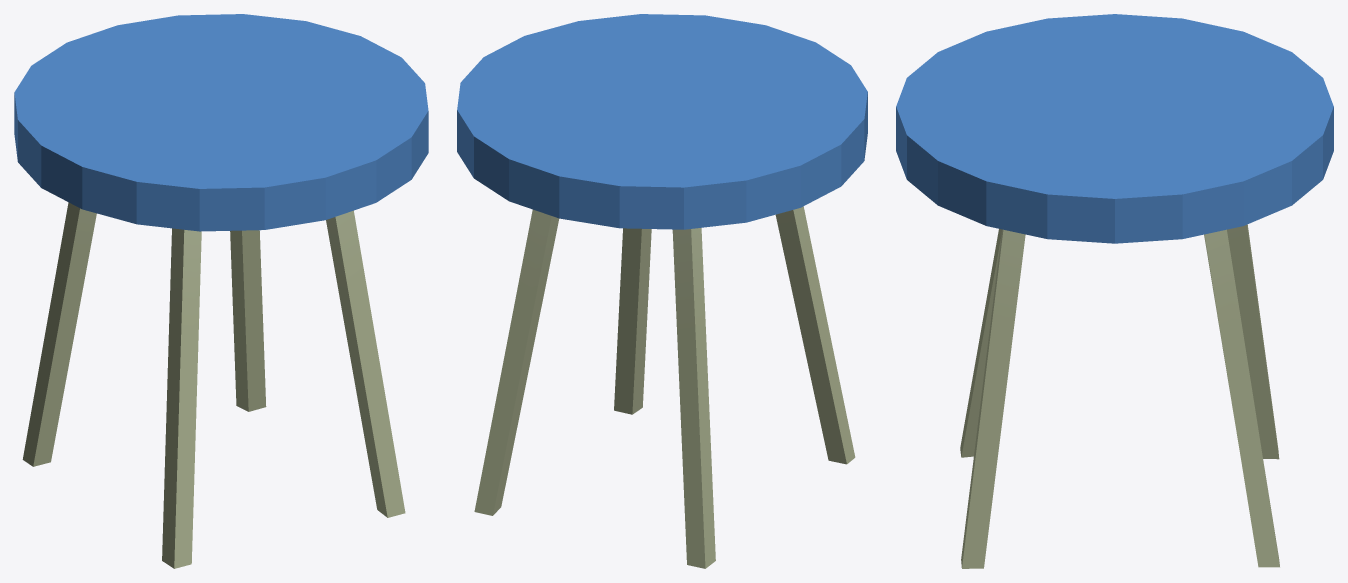
The model's file is Patio_Table.fbx.
The picture shows the model from 3 angles, left to right: view 1: azimuth 30°, elevation 25°; view 2: azimuth 150°, elevation 25°; view 3: azimuth 270°, elevation 25°; orthographic projection. The views are drawn at different scales.
Visible parts, largest first — view 1: Patio_Table; view 2: Patio_Table; view 3: Patio_Table.
Boxes of the visible parts, left/top/right/bottom form: Patio_Table: left=14, top=14, right=428, bottom=568; Patio_Table: left=457, top=14, right=867, bottom=568; Patio_Table: left=896, top=14, right=1333, bottom=568.
Size of the model in its own units: 74.29 by 75.94 by 74.29.
